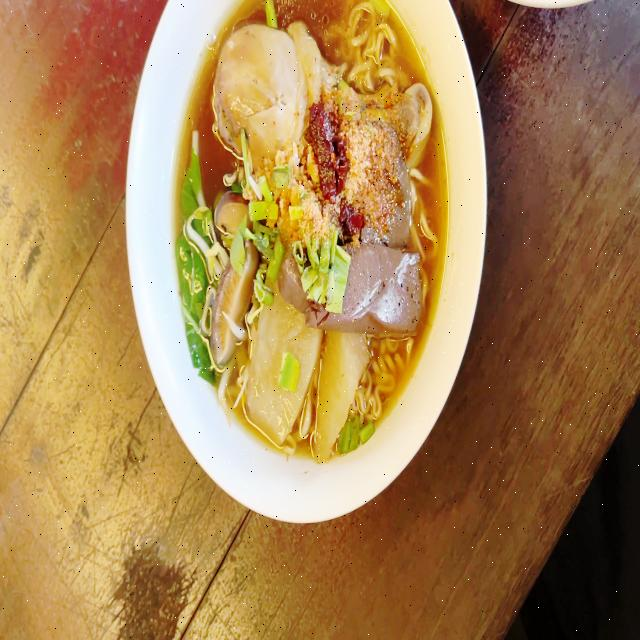boiled_chicken_blood_jelly: (344, 250, 425, 334)
chicken_drumstick: (230, 39, 424, 167)
daikon_radish: (247, 313, 366, 443)
noodle: (175, 0, 453, 471)
